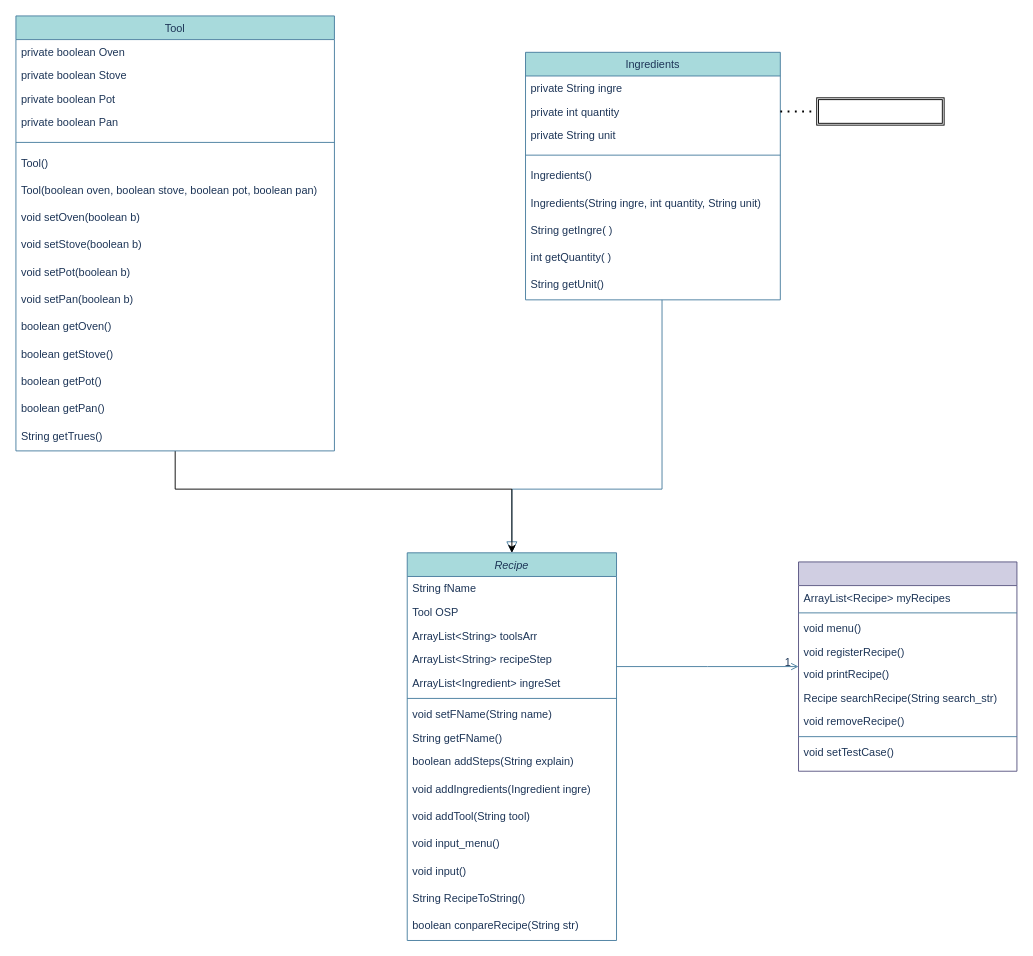
Image size: 1033x956. Some labels were removed from this diagram. The box of each missing label's shape, as (x1, y1, x2, y2) in pixels:
RecipeApp: (798, 561, 1017, 771)
재료 이름, 양, 단위: (816, 97, 944, 125)
